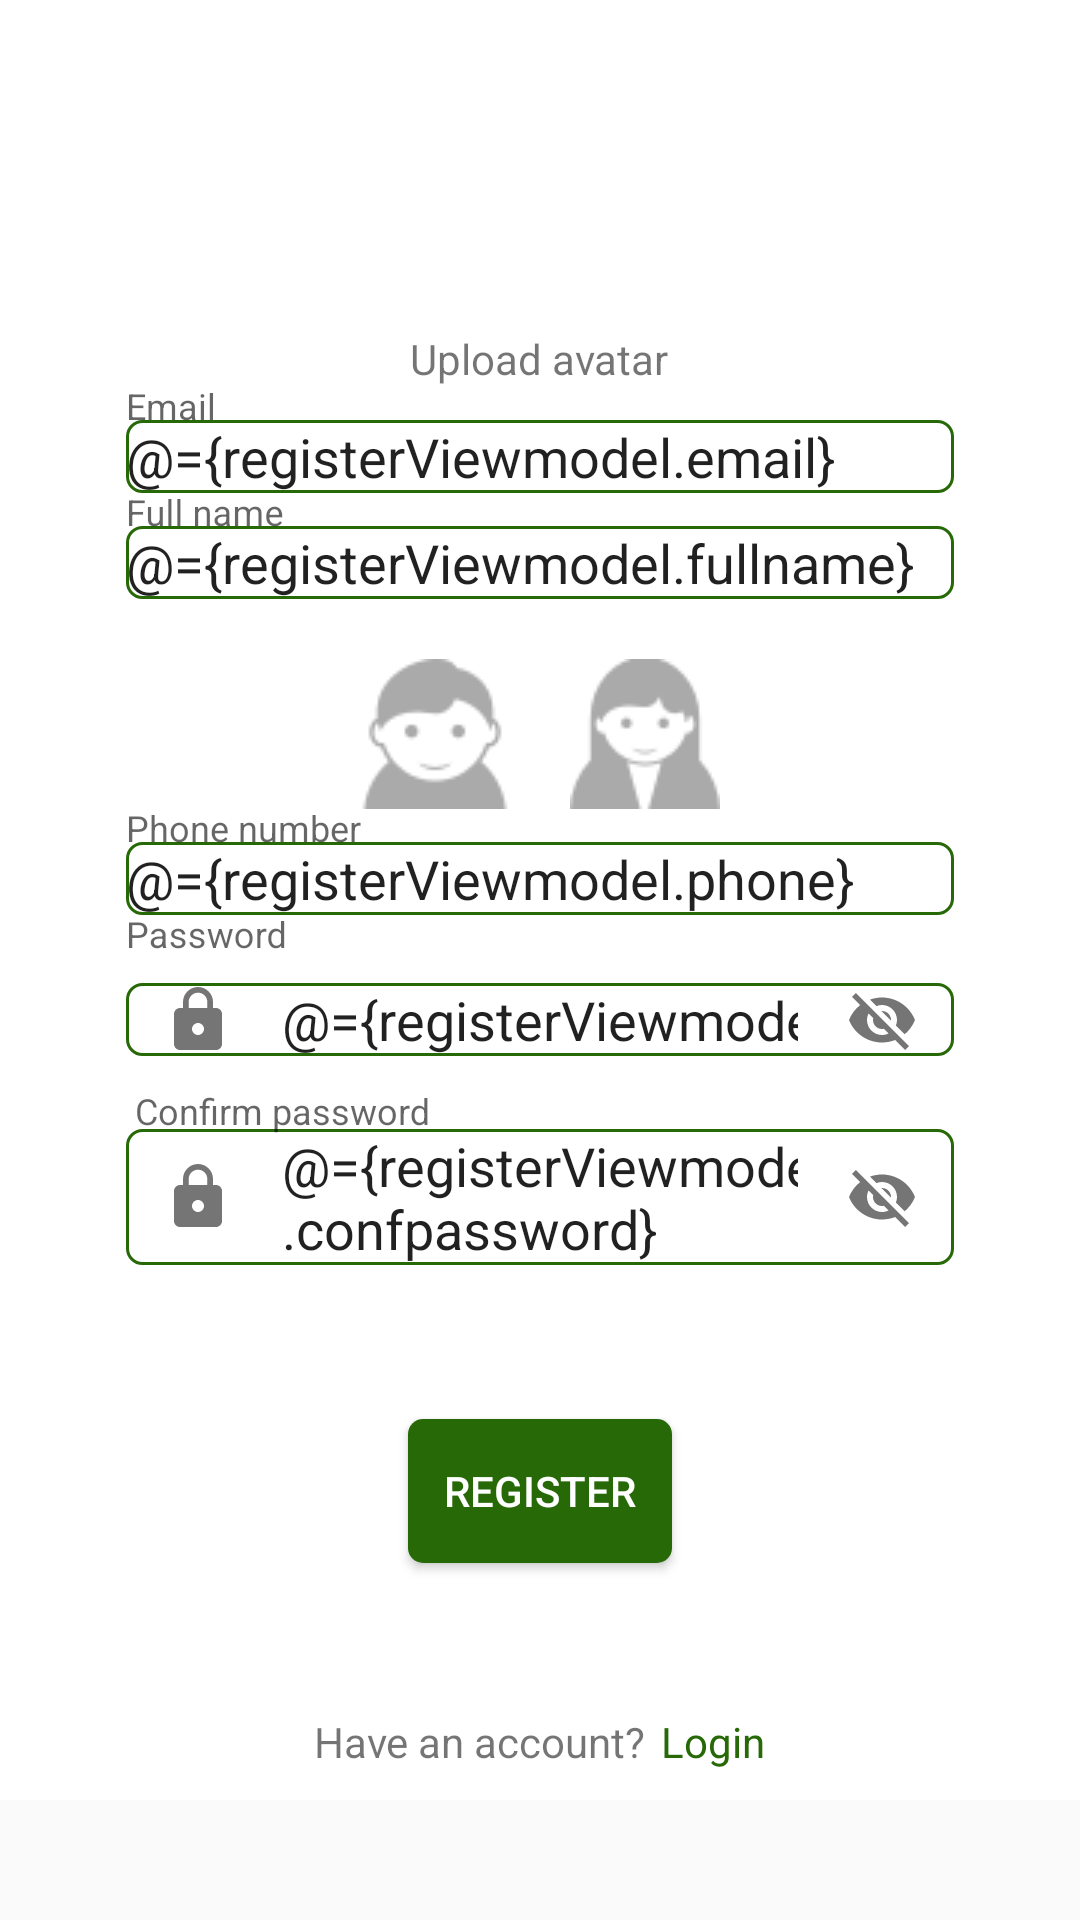

Screen size 1080px x 1920px. Icon name, then its box in pixels as (x1, y1, x2, y2):
female: (570, 659, 720, 809)
male: (363, 659, 507, 809)
